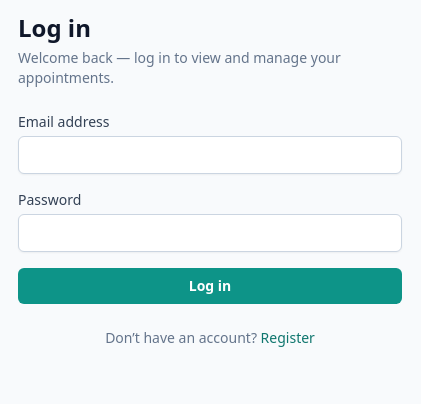
Test case: LoginPage › shows field validation errors returned by the backend
Type "test@example.com" into the field labelled "Email address". click: (210, 155)
box: x1=18 y1=136 x2=402 y2=174
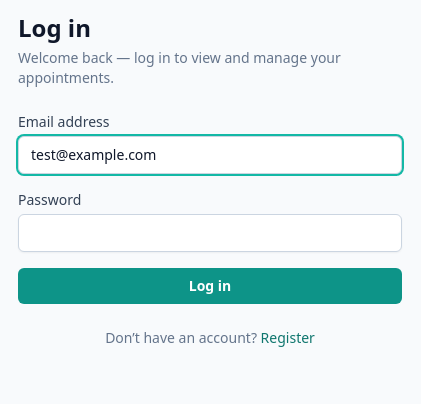
Type "password123" into the password field labelled "Password". click: (210, 233)
box: x1=18 y1=214 x2=402 y2=252
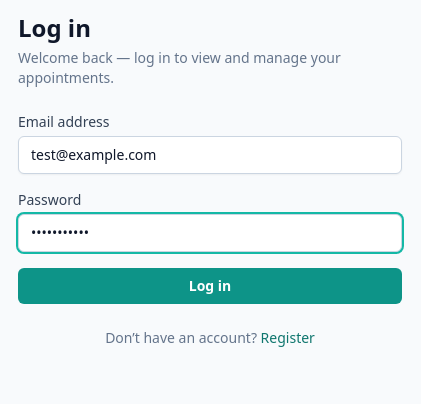
Click the button "Log in". click: (210, 286)
box: x1=18 y1=268 x2=402 y2=304
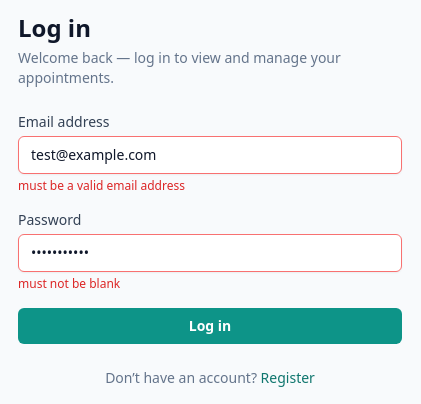
Expected: the text "must be a valid email address" is shown, x1=18 y1=177 x2=185 y2=194
Expected: the text "must not be blank" is shown, x1=18 y1=275 x2=120 y2=292
